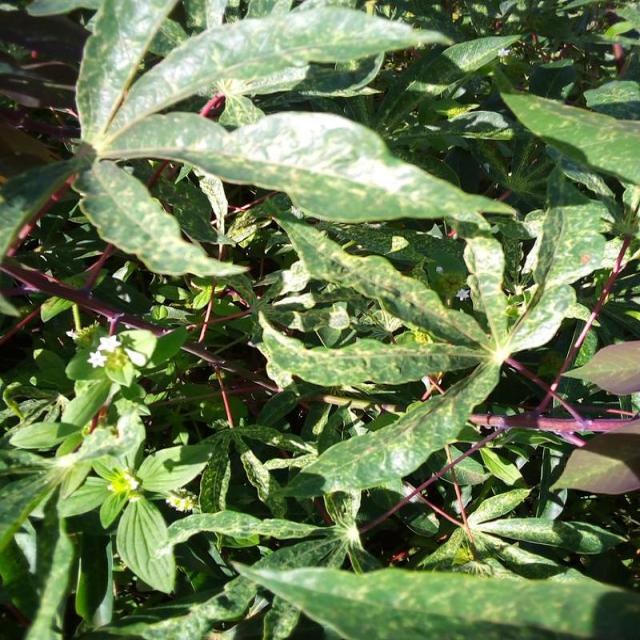cassava leaf: (99, 106, 520, 234), (96, 0, 452, 147), (229, 557, 639, 638)
